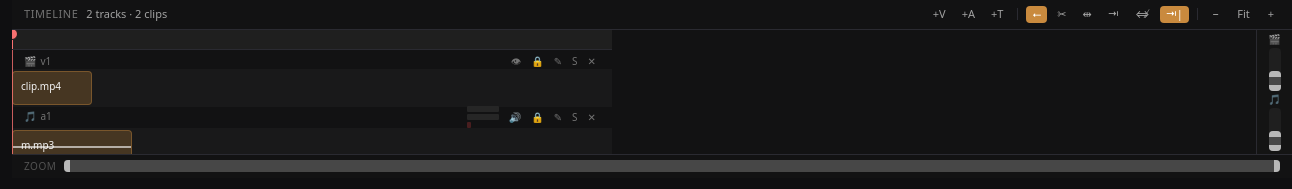
Test case: TimelineEditor › clicking the backdrop closes the context menu
The image size is (1292, 189).
Right-click the element titled "clip.mp4" at (52, 88), box [12,70,92,104]
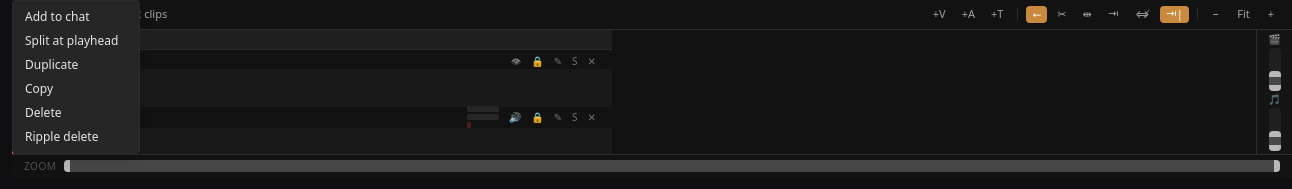
Expected: the menu is shown
Press the mouse on the element that starts with "Add to chat" at (76, 77), box [12,0,140,154]
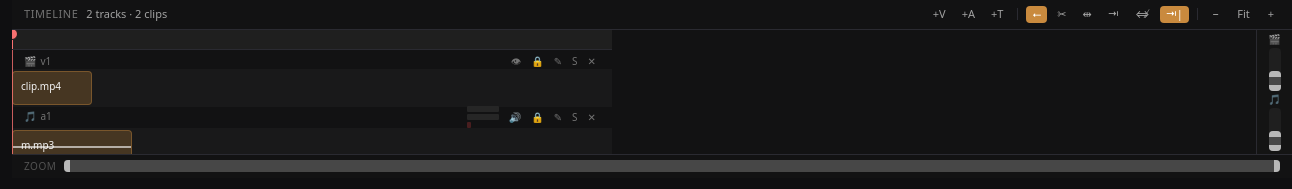
Expected: the menu is gone
